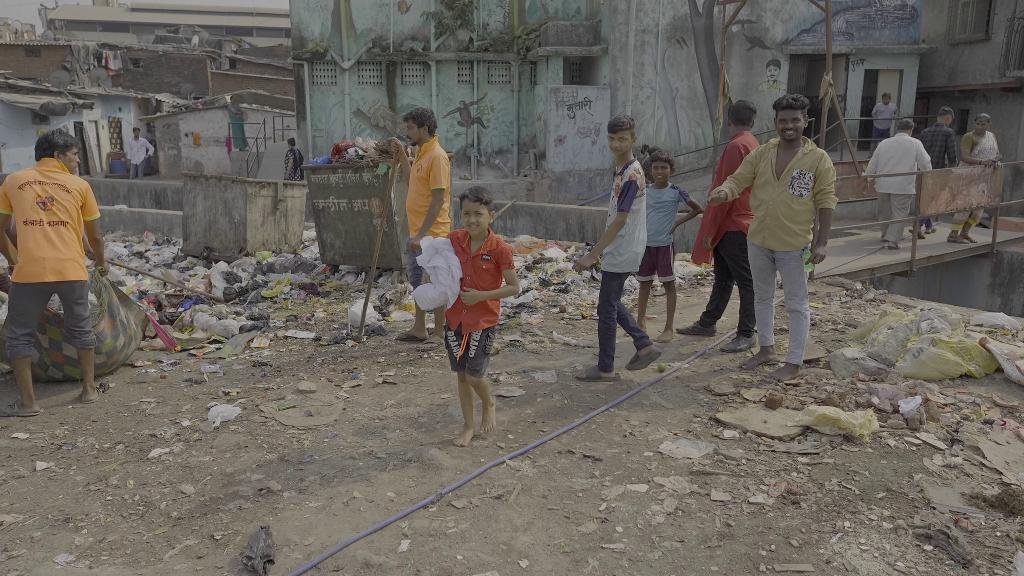dustbin: (175, 163, 312, 267), (306, 149, 413, 270)
garbage: (803, 394, 880, 446), (203, 402, 244, 429), (346, 300, 381, 328), (208, 318, 248, 339), (545, 333, 586, 350), (218, 283, 242, 305), (899, 394, 923, 415), (218, 269, 244, 286), (386, 309, 417, 322), (248, 335, 271, 350), (199, 365, 223, 374)
